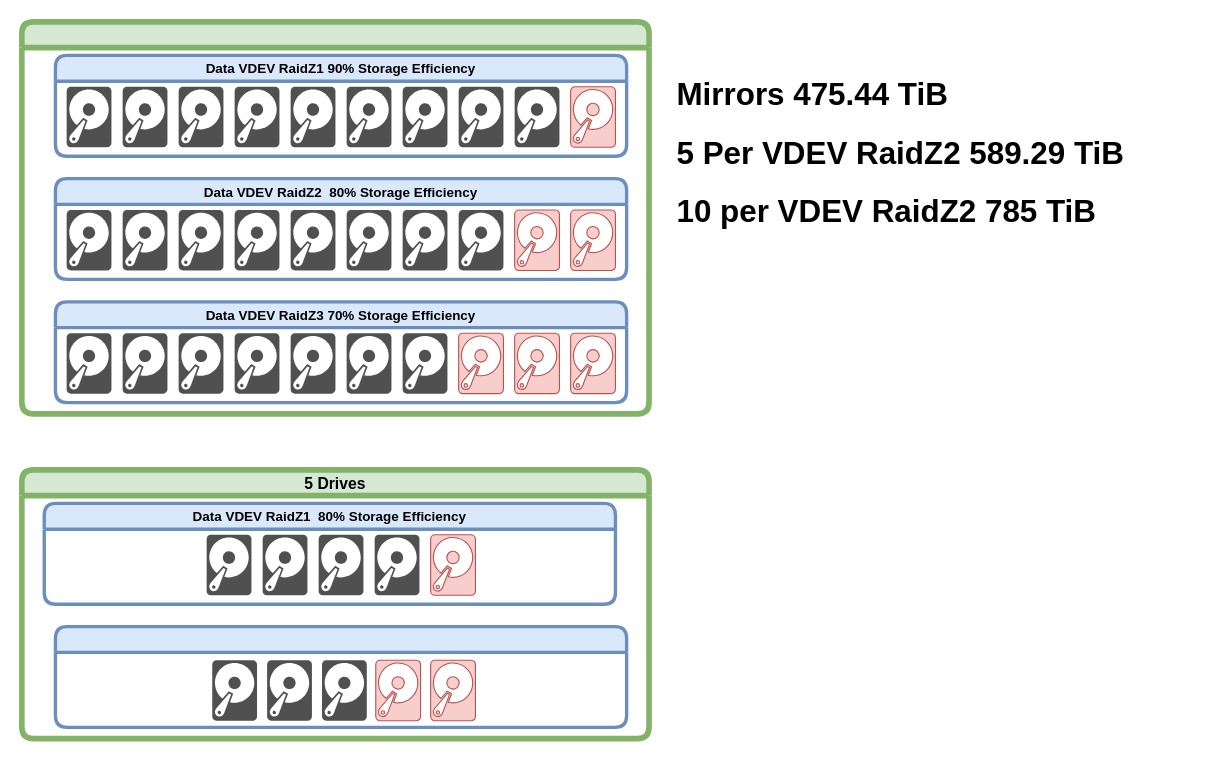
Image size: 1217x760. Some labels were removed from this diagram. Each missing label, with the box of its shape:
10 Drive VDEV: (18, 18, 651, 416)
Data VDEV RaidZ2 60% Storage Efficiency: (53, 624, 628, 729)
